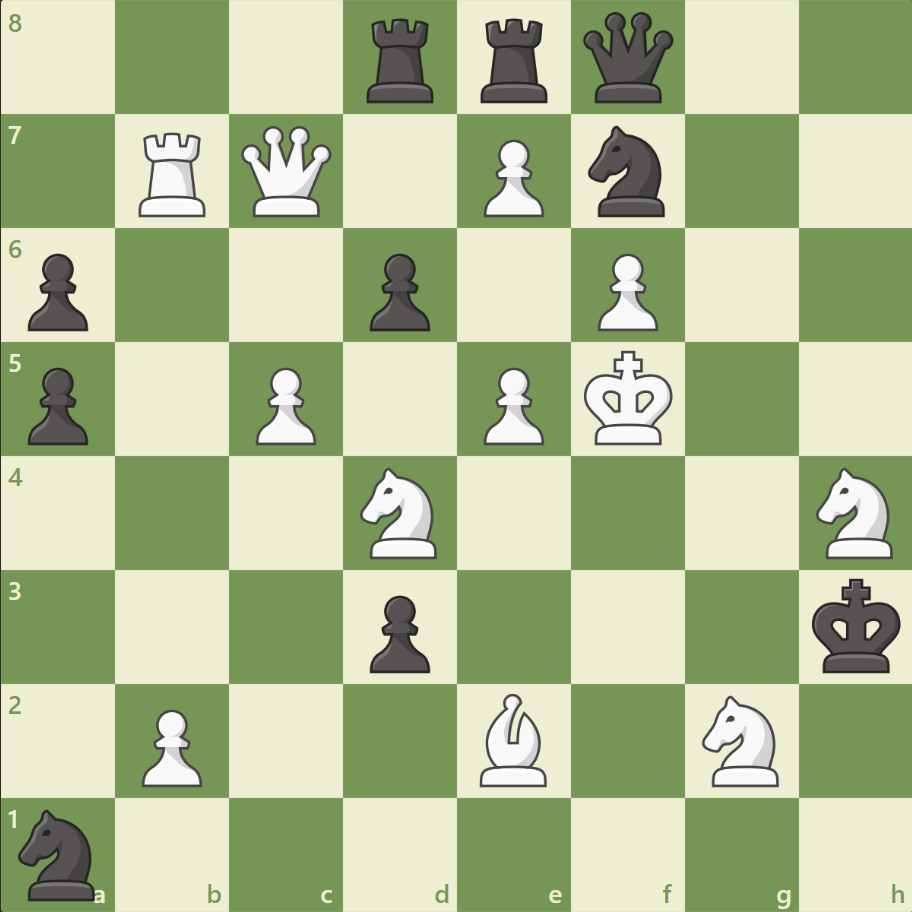B: (471, 687, 555, 790)
K: (579, 344, 679, 452)
N: (351, 461, 449, 564), (806, 461, 903, 564), (692, 688, 789, 791)
P: (474, 132, 549, 223), (247, 359, 322, 450), (474, 359, 549, 450), (133, 700, 208, 791), (588, 246, 662, 337)
Q: (237, 122, 336, 222)
R: (133, 125, 215, 222)
k: (806, 571, 906, 679)
n: (579, 121, 676, 223), (11, 802, 108, 904)
p: (20, 246, 95, 337), (20, 359, 95, 450), (361, 246, 435, 337), (361, 586, 435, 677)
q: (578, 9, 677, 108)
r: (473, 12, 556, 109), (360, 12, 442, 109)
